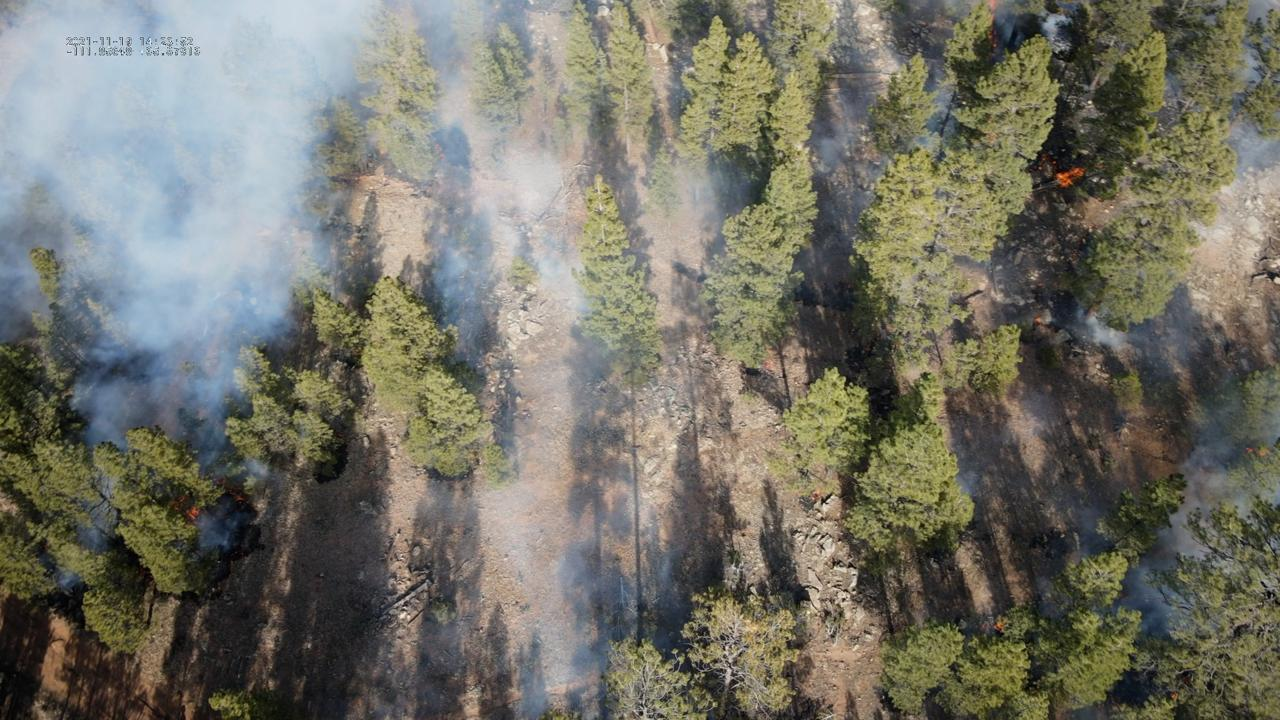fire: (172, 493, 203, 521), (1053, 166, 1086, 191), (1251, 444, 1276, 458), (986, 0, 1005, 14), (991, 617, 1007, 631), (1035, 316, 1050, 326), (1170, 691, 1180, 705)
smoke: (0, 0, 743, 720), (810, 77, 959, 220), (1174, 407, 1280, 595), (1210, 0, 1280, 174), (1083, 306, 1128, 349), (1037, 12, 1073, 47), (958, 475, 974, 497)
